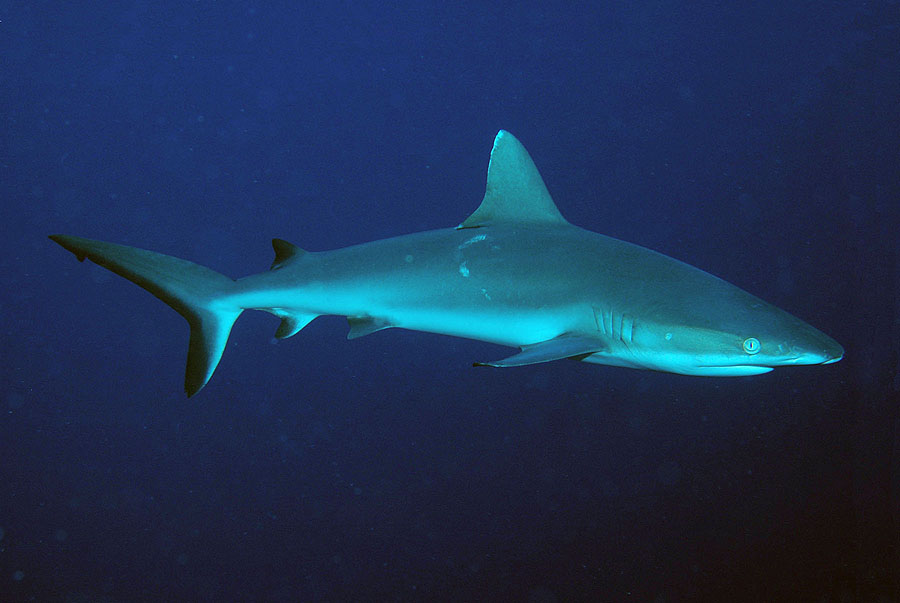Carcharhinus_amblyrhynchos: (53, 127, 850, 421)
